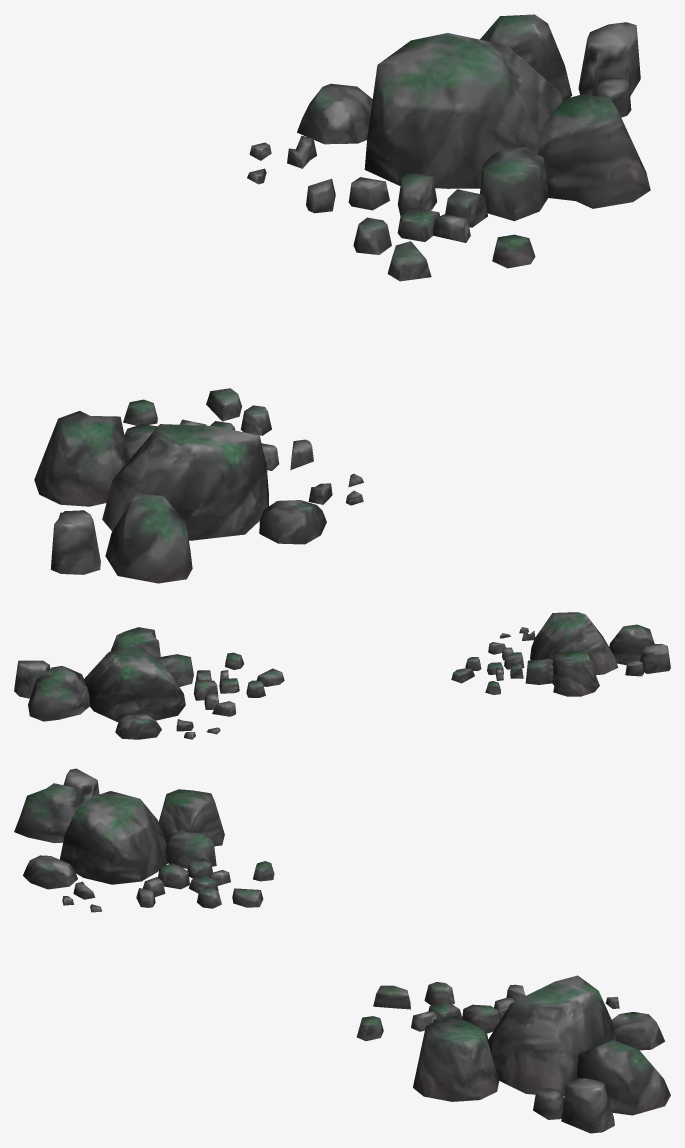
File: Area_10_8.fbx
3 renders of one model, top to bottom at view 1: azimuth 30°, elevation 25°; view 2: azimuth 150°, elevation 25°; view 3: azimuth 270°, elevation 25°, orthographic. The views are drawn at different scales.
Parts seen in each view (by area): view 1: Area_10_8; view 2: Area_10_8; view 3: Area_10_8.
Boxes of the visible parts, x1=… form: Area_10_8: x1=34, y1=14, x2=650, y2=583; Area_10_8: x1=14, y1=612, x2=670, y2=739; Area_10_8: x1=14, y1=768, x2=670, y2=1133.
Size of the model in its own units: 2541 by 251 by 2123.
